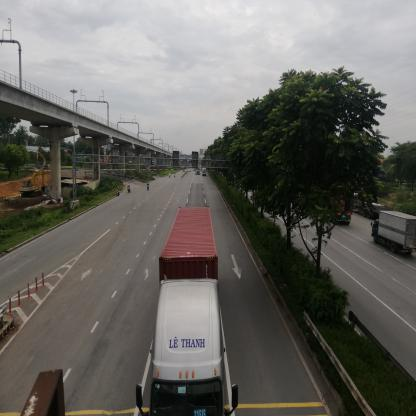container: (141, 204, 244, 416)
motorbike: (146, 183, 151, 191), (117, 187, 121, 197), (128, 187, 132, 195)
truck: (371, 212, 416, 262), (203, 168, 208, 177)
